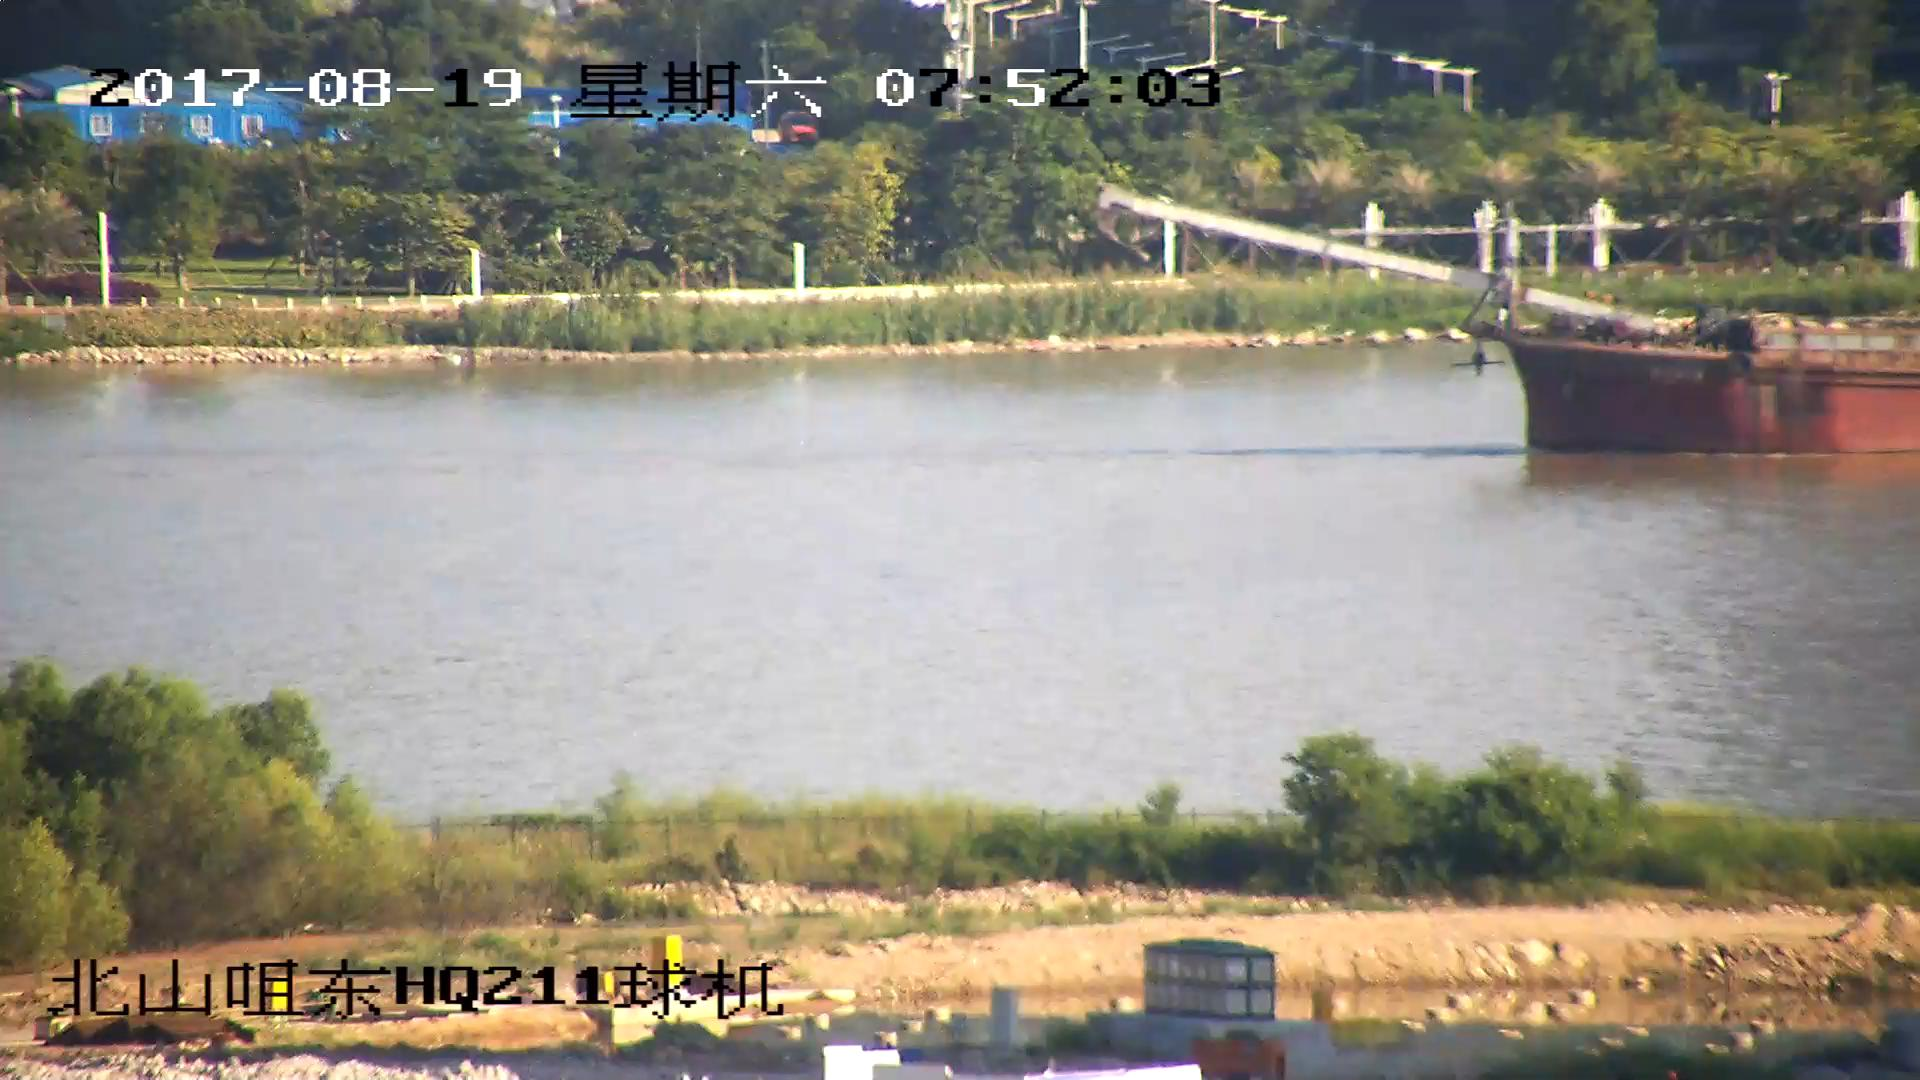bulk cargo carrier: (1104, 195, 1920, 458)
